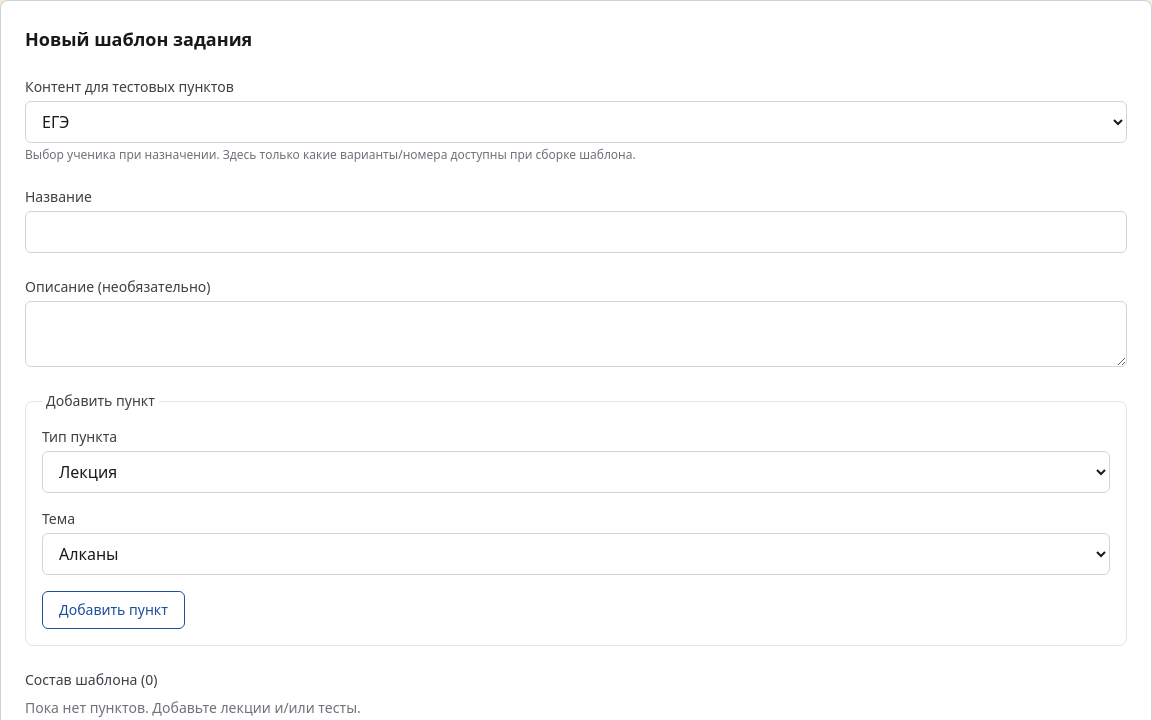
Test: HomeworkForm › shows OGE type range when content track is OGE
This screenshot has width=1152, height=720.
Select "ОГЭ" in the dropdown labelled "Контент для тестовых пунктов" at (576, 122), box top-left (25, 101), bottom-right (1127, 143)
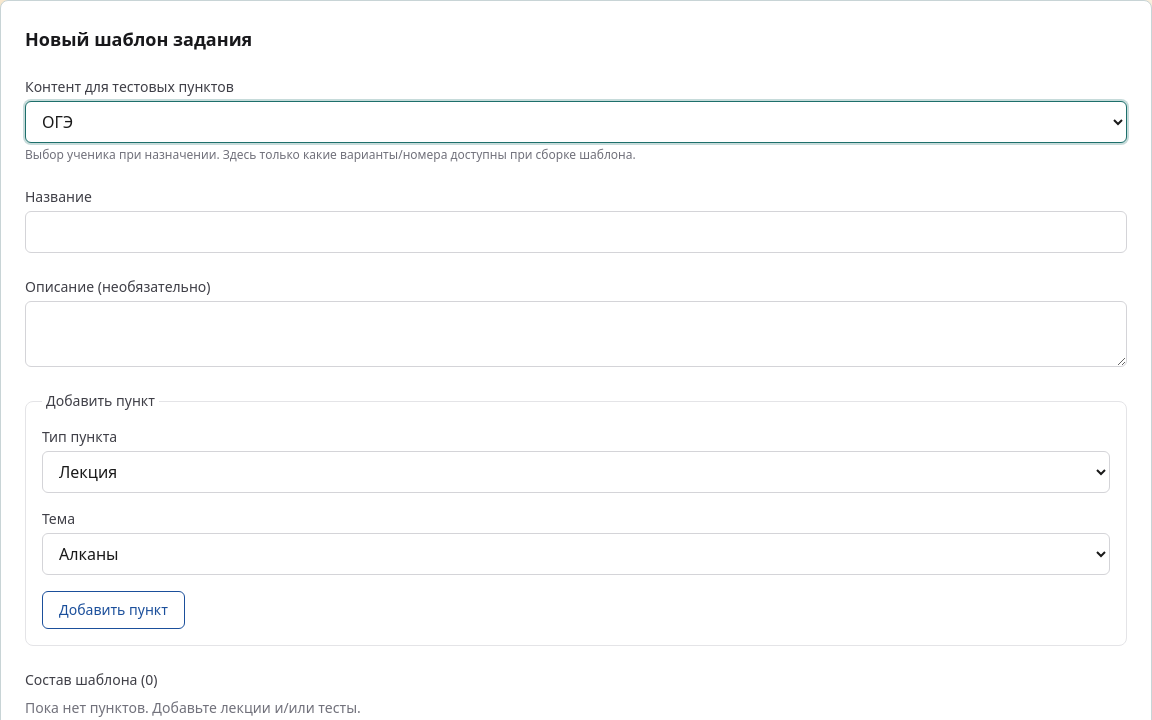
Select "Тест: выбранные номера" in the dropdown labelled "Тип пункта" at (576, 472), box top-left (42, 451), bottom-right (1110, 493)
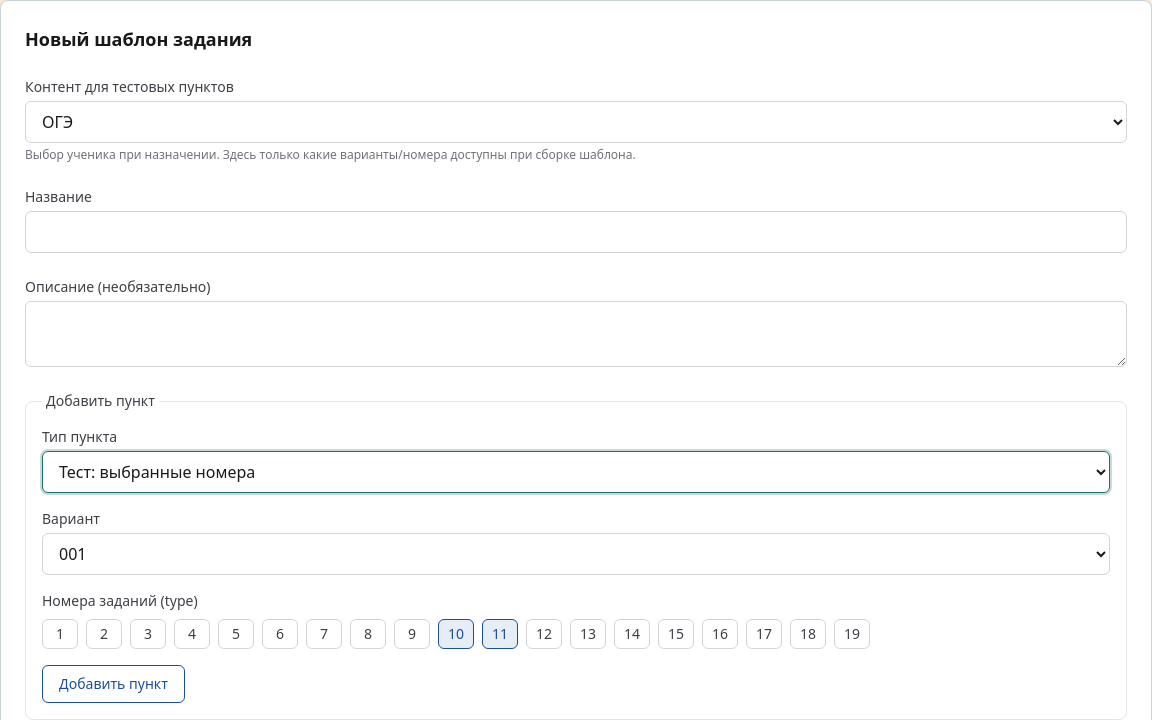
Now the button "19" is shown, box top-left (834, 619), bottom-right (870, 649)
